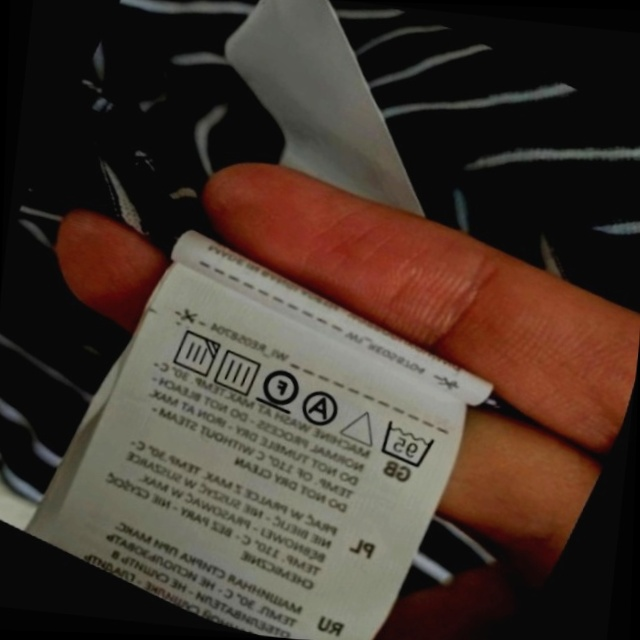95C: (368, 411, 444, 477)
bleach: (335, 396, 389, 455)
drip_dry: (206, 340, 270, 403)
drip_dry_in_shade: (161, 320, 227, 386)
dry_clean: (293, 381, 350, 436)
dry_clean_petrol_only: (250, 355, 311, 420)
